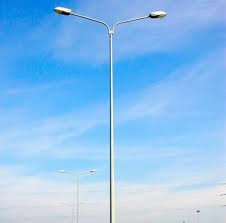light_pole: (104, 26, 118, 223)
